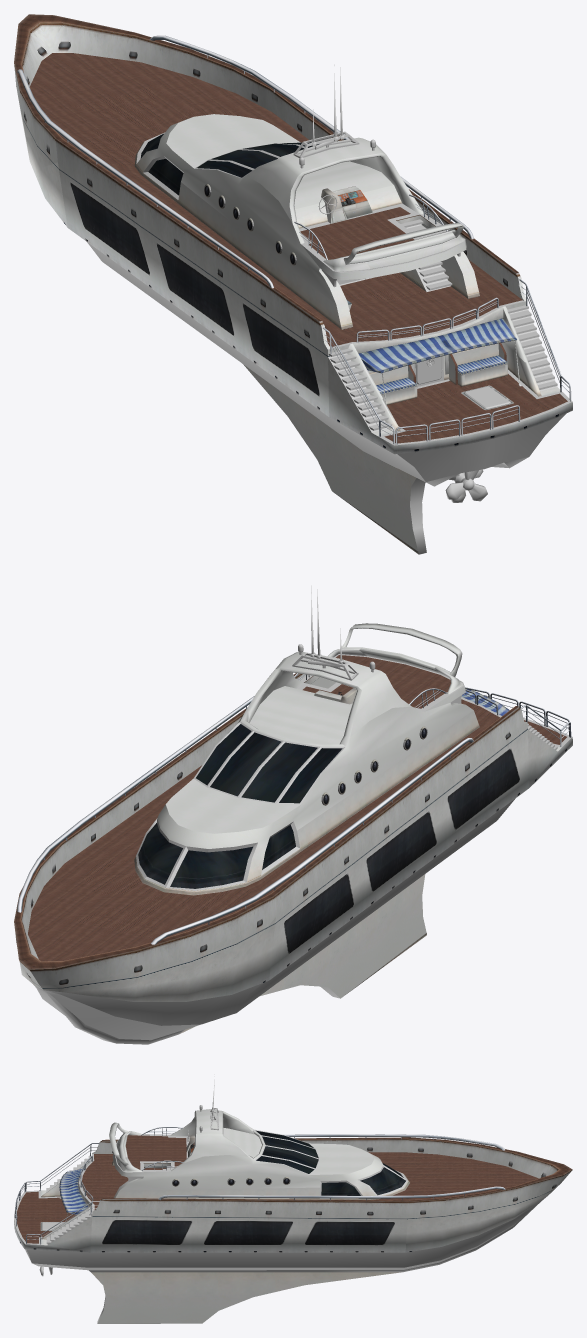
File: yate.fbx
3 renders of one model, top to bottom at view 1: azimuth 30°, elevation 25°; view 2: azimuth 150°, elevation 25°; view 3: azimuth 270°, elevation 25°, orthographic. The views are drawn at different scales.
Visible parts, largest first — view 1: generic_item; view 2: generic_item; view 3: generic_item.
Part boxes in pixels (x1,y1,x2,y2): generic_item: (14,14,572,554); generic_item: (14,585,572,1044); generic_item: (14,1074,572,1323).
Size of the model in its own units: 43.64 by 79.93 by 161.
